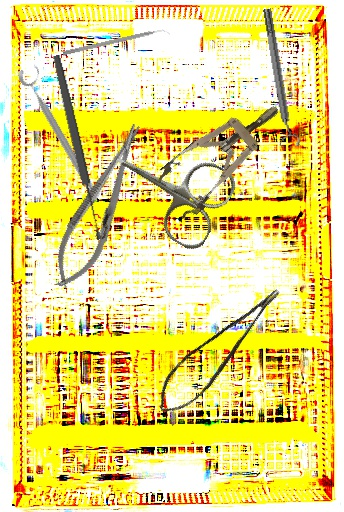Chopper: (62, 26, 171, 62)
Fixation Ring: (15, 62, 110, 201), (257, 7, 301, 149)
Iris Scissors: (96, 120, 241, 255)
Micro Scissor: (143, 284, 300, 423)
Needle Holder: (42, 116, 158, 297)
Speculum: (149, 86, 296, 224)
Surgical Spoon: (50, 54, 105, 241)
